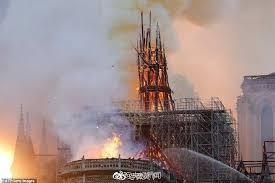fire: (86, 133, 122, 158), (0, 137, 14, 178)
